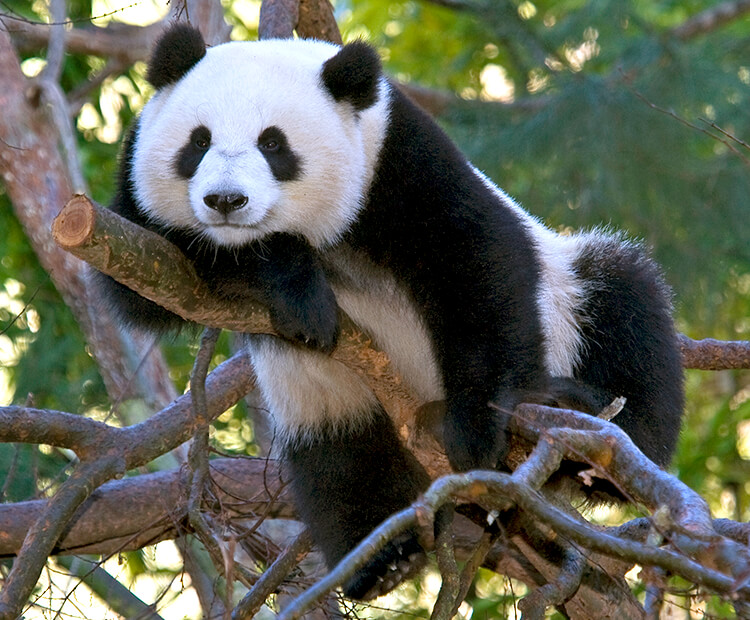panda: (98, 5, 703, 573)
